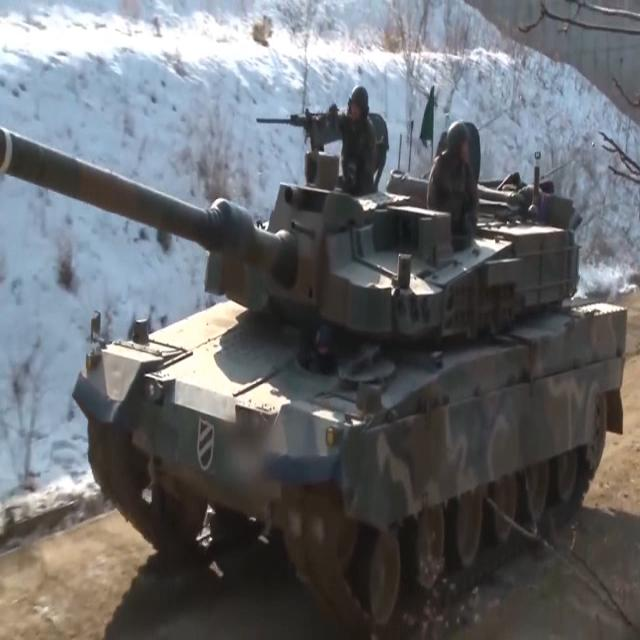korea tank: (1, 81, 630, 640)
